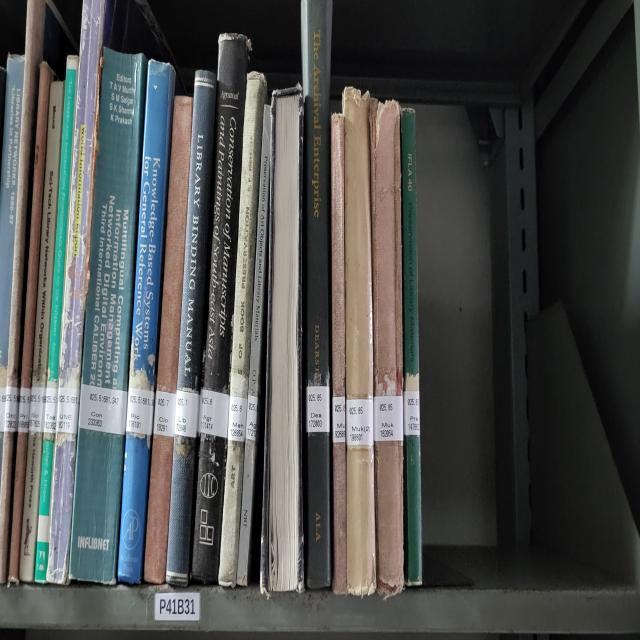Book: (69, 49, 148, 584), (46, 0, 105, 584), (191, 35, 250, 582), (118, 60, 175, 584), (166, 70, 216, 584), (219, 73, 266, 587), (9, 62, 54, 584), (35, 57, 79, 582), (301, 0, 332, 587), (342, 87, 376, 595), (370, 100, 404, 595), (238, 106, 271, 587), (6, 0, 45, 390), (156, 97, 192, 395), (31, 81, 64, 387), (401, 108, 422, 587), (342, 87, 374, 398), (331, 114, 348, 593), (144, 433, 174, 584), (0, 430, 14, 584)
Label: (79, 384, 128, 436), (199, 387, 229, 438), (126, 387, 155, 436), (374, 395, 404, 441), (346, 398, 374, 446), (174, 390, 200, 438), (56, 387, 80, 433), (306, 387, 330, 433), (154, 390, 176, 436), (228, 395, 248, 441), (29, 387, 46, 433), (404, 390, 420, 436), (4, 387, 19, 433), (44, 387, 58, 433), (332, 398, 346, 444), (18, 387, 31, 433), (246, 395, 259, 441)
